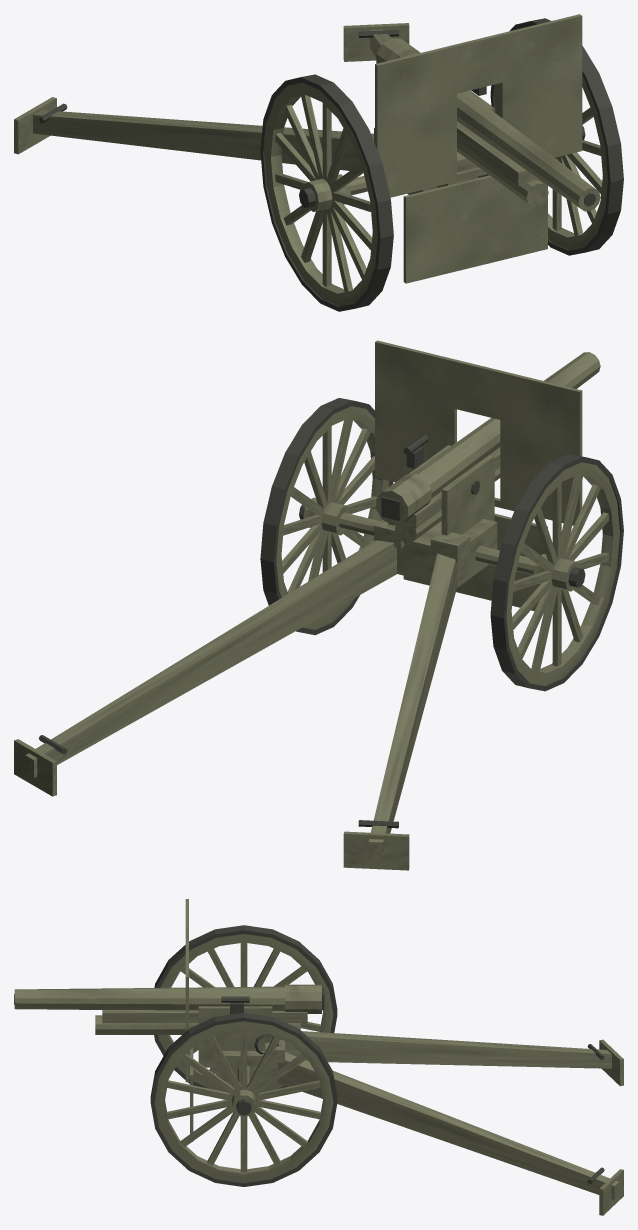
File: artillery.glb
3 renders of one model, top to bottom at view 1: azimuth 30°, elevation 25°; view 2: azimuth 150°, elevation 25°; view 3: azimuth 270°, elevation 25°, orthographic. The views are drawn at different scales.
Visible parts, largest first — view 1: bouclier, tablier, longeron_right, rayons_right, jante_right, bandage_right, tube, bandage_left, jante_left, rayons_left, berceau, beche_left (+4 smaller); view 2: bouclier, longeron_left, rayons_right, longeron_right, rayons_left, jante_right, bandage_right, bandage_left, tube, flasques, corps, jante_left (+9 smaller); view 3: longeron_left, longeron_right, rayons_left, tube, jante_left, bandage_left, jante_right, bandage_right, flasques, rayons_right, berceau, recuperateur (+5 smaller).
Boxes of the visible parts, box(x1,y1,x2,y2) form: bouclier: box(375, 14, 582, 197); tablier: box(403, 175, 547, 283); longeron_right: box(33, 110, 373, 170); rayons_right: box(275, 95, 372, 291); jante_right: box(264, 82, 377, 306); bandage_right: box(260, 74, 393, 311); tube: box(457, 91, 600, 211); bandage_left: box(490, 18, 623, 255); jante_left: box(494, 76, 607, 250); rayons_left: box(552, 107, 602, 235); berceau: box(457, 121, 539, 185); beche_left: box(343, 23, 409, 61); bouclier: box(375, 340, 582, 525); longeron_left: box(25, 540, 396, 777); rayons_right: box(512, 474, 609, 671); longeron_right: box(368, 553, 457, 860); rayons_left: box(282, 418, 377, 593); jante_right: box(506, 462, 619, 685); bandage_right: box(490, 454, 623, 691); bandage_left: box(260, 398, 393, 635); tube: box(412, 352, 600, 498); flasques: box(408, 445, 494, 535); corps: box(397, 519, 497, 587); jante_left: box(276, 406, 389, 629); longeron_left: box(278, 1052, 619, 1200); longeron_right: box(285, 1031, 611, 1068); rayons_left: box(167, 1030, 320, 1172); tube: box(14, 986, 284, 1010); jante_left: box(154, 1021, 333, 1182); bandage_left: box(150, 1012, 337, 1186); jante_right: box(158, 934, 333, 1092); bandage_right: box(154, 925, 337, 1088); flasques: box(198, 1006, 272, 1067); rayons_right: box(181, 942, 320, 1073); berceau: box(102, 1010, 307, 1023); recuperateur: box(95, 1015, 300, 1034).
Size of the model in its own units: 1.36 by 0.8571 by 2.34.
Materials: 2 (1 with a texture image).
